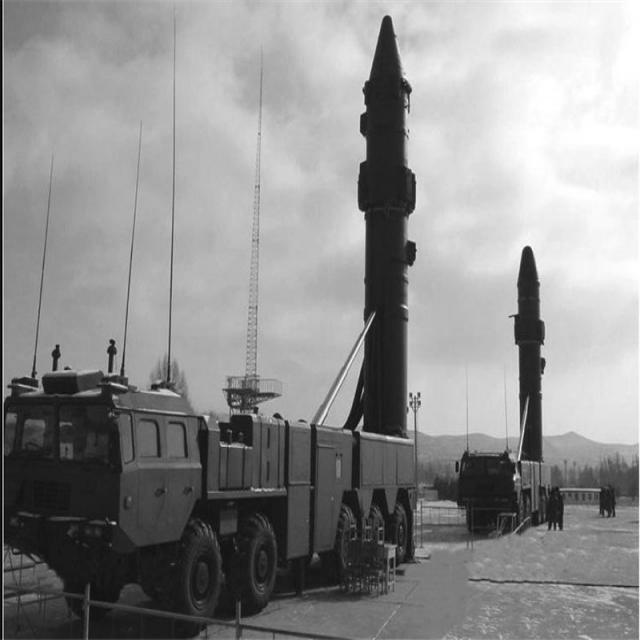missile: (357, 10, 417, 450)
